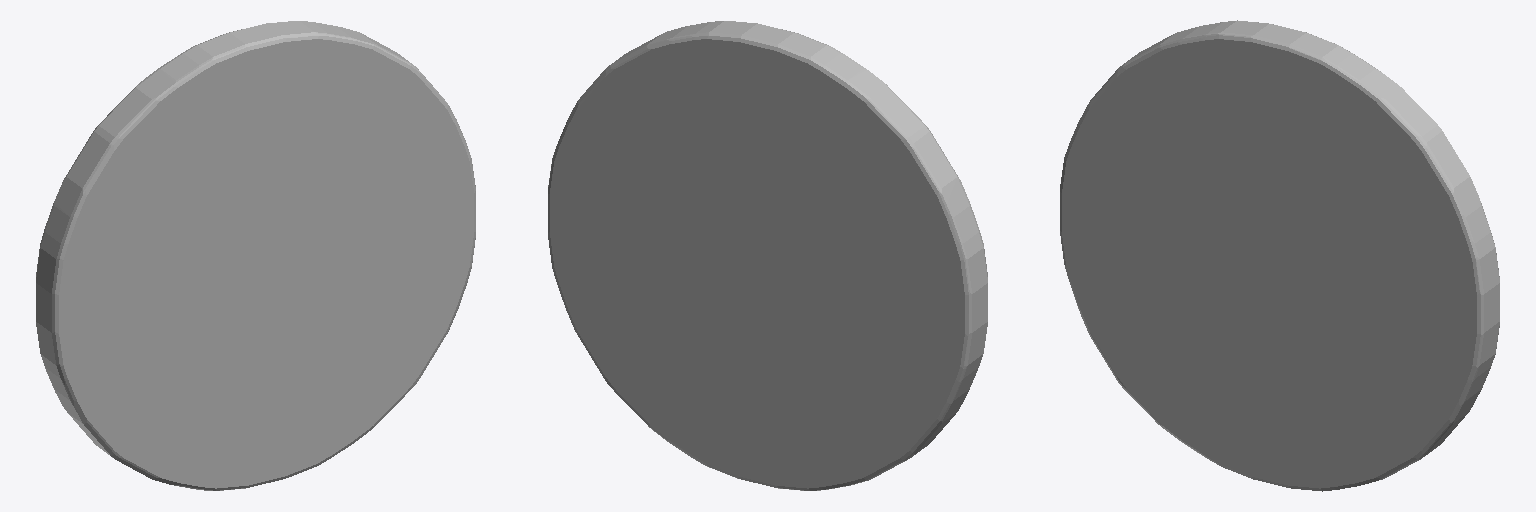
The robot description file, URDF, robot "root":
<robot name="root">
  <link name="link_coacd_convex_piece_0">
    <inertial>
      <origin xyz="0 0 0" rpy="0 0 0"/>
      <inertia ixx="1.02E-01" ixy="2.75E-06" ixz="2.34E-05" iyy="2.03E-01" iyz="2.75E-06" izz="1.02E-01"/>
    </inertial>
    <visual>
      <origin xyz="0 0 0" rpy="0 0 0"/>
      <geometry>
        <mesh filename="coacd_convex_piece_0.obj" scale="1.0000E+00 1.0000E+00 1.0000E+00"/>
      </geometry>
      <material name="">
        <color rgba="7.50E-01 7.50E-01 7.50E-01 1"/>
      </material>
    </visual>
    <collision>
      <origin xyz="0 0 0" rpy="0 0 0"/>
      <geometry>
        <mesh filename="coacd_convex_piece_0.obj" scale="1.0000E+00 1.0000E+00 1.0000E+00"/>
      </geometry>
    </collision>
  </link>
</robot>

--- Render facts (derived) ---
Views: 3 orthographic renders of the robot side by side, from view 1: azimuth 30°, elevation 25°; view 2: azimuth 150°, elevation 25°; view 3: azimuth 330°, elevation 25°.
Model root with 1 links and 0 joints (none), rooted at link_coacd_convex_piece_0, posed all joints at 0.
Visible links, largest first — view 1: link_coacd_convex_piece_0; view 2: link_coacd_convex_piece_0; view 3: link_coacd_convex_piece_0.
Boxes of the visible links, x1,y1,x2,y2 form: link_coacd_convex_piece_0: (36, 21, 475, 490); link_coacd_convex_piece_0: (548, 21, 987, 490); link_coacd_convex_piece_0: (1060, 20, 1499, 491).
Bounding box of the posed robot: 1.96 × 0.17 × 1.96 m (x, y, z).
Meshes: 1 distinct files referenced, 1 mesh visuals loaded (1 OBJ).